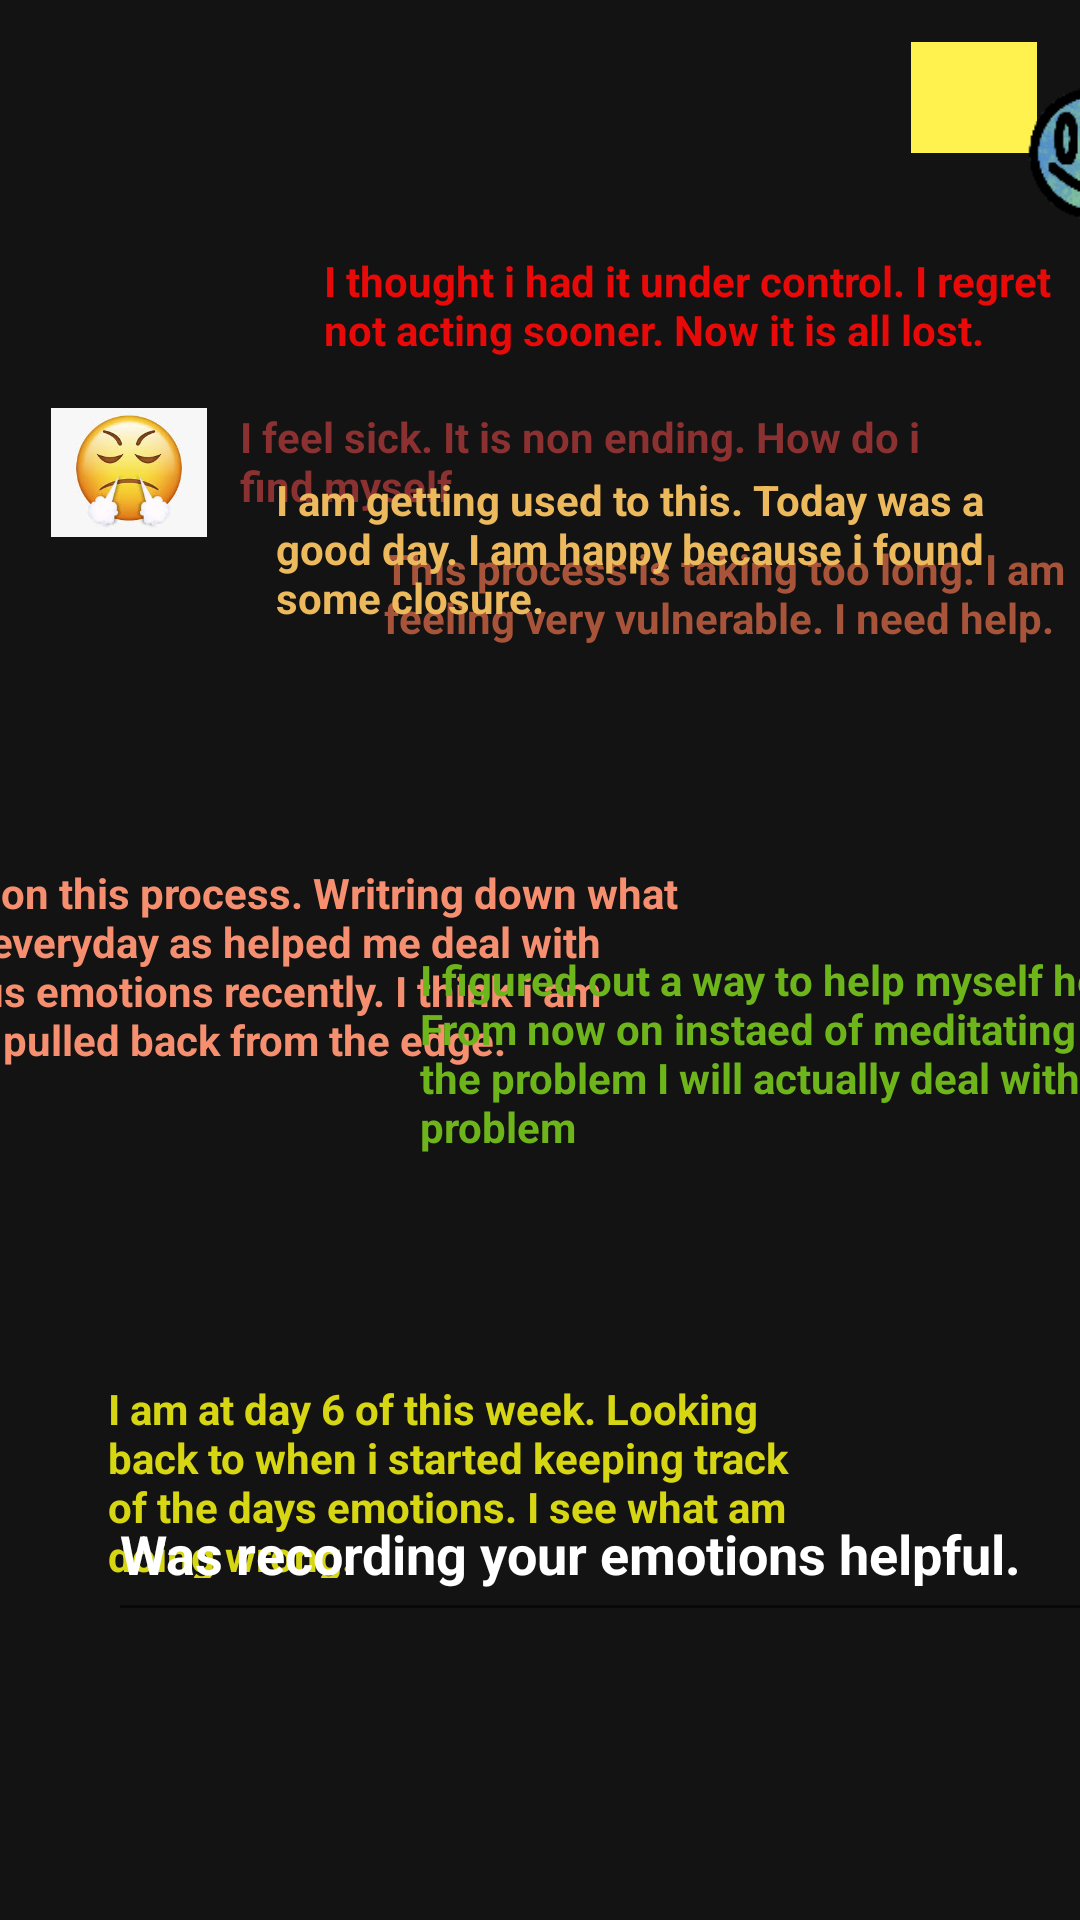

Icon click points for this 1080 × 1920 phone screenshot, format (x,y):
angry: (129,472)
